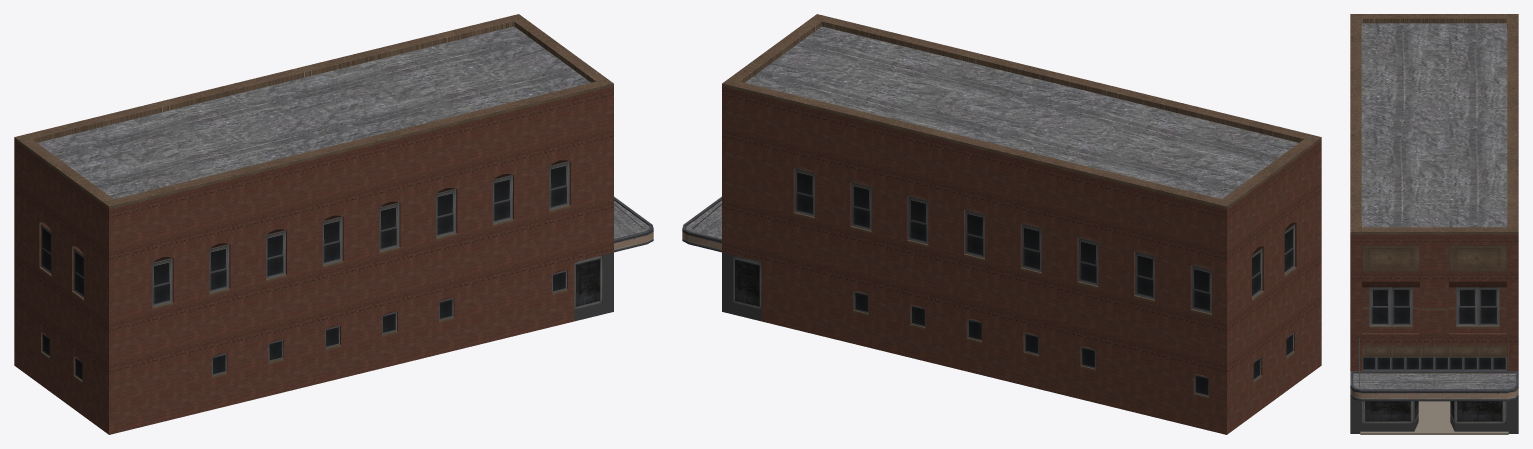
File: brick-shop.zfix-v14.lod0.glb
The picture shows the model from 3 angles, left to right: view 1: azimuth 30°, elevation 25°; view 2: azimuth 150°, elevation 25°; view 3: azimuth 270°, elevation 25°; orthographic projection. The views are drawn at different scales.
Parts seen in each view (by area): view 1: Object_4; view 2: Object_4; view 3: Object_4, Walkable floors and stairs.
Part boxes in pixels (box(x1,y1,x2,y2)): Object_4: box(14, 14, 653, 434); Object_4: box(682, 14, 1321, 434); Object_4: box(1350, 14, 1518, 433); Walkable floors and stairs: box(1360, 401, 1508, 434).
Size of the model in its own units: 24.23 by 9.61 by 7.24.
Materials: 3 (1 with a texture image).
